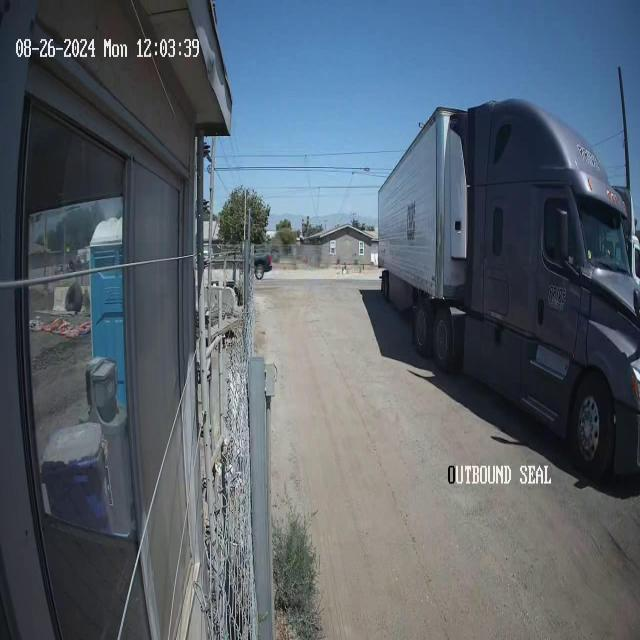TRUCK_IN: (377, 93, 639, 486)
